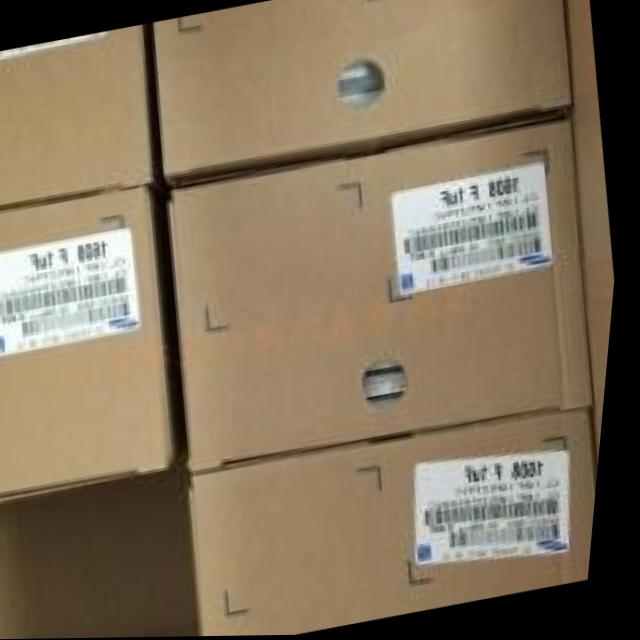box: (169, 113, 601, 473), (200, 407, 606, 637), (154, 0, 574, 188), (0, 186, 196, 503), (0, 23, 171, 209)
